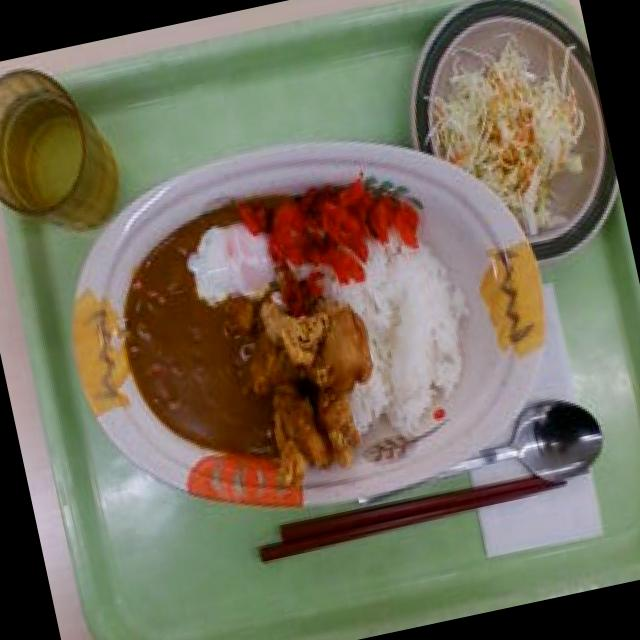Beef Curry: (103, 208, 361, 490)
